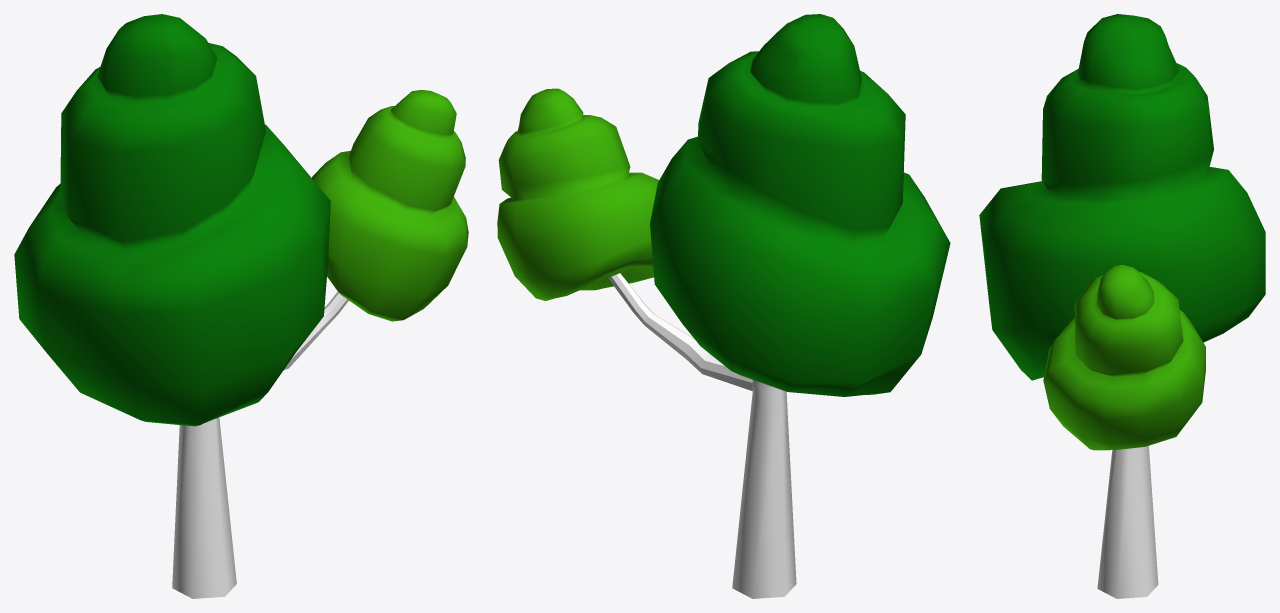
The model's file is SM_Tree_P_16.fbx.
3 views of the same model, side by side, from view 1: azimuth 30°, elevation 25°; view 2: azimuth 150°, elevation 25°; view 3: azimuth 270°, elevation 25° (orthographic). The views are drawn at different scales.
Parts seen in each view (by area): view 1: SM_Tree_P_16; view 2: SM_Tree_P_16; view 3: SM_Tree_P_16.
Boxes of the visible parts, x1=… form: SM_Tree_P_16: x1=14, y1=14, x2=468, y2=598; SM_Tree_P_16: x1=497, y1=14, x2=950, y2=598; SM_Tree_P_16: x1=979, y1=14, x2=1265, y2=598.
Bounding box in the file's own units: 639 × 830 × 394.
